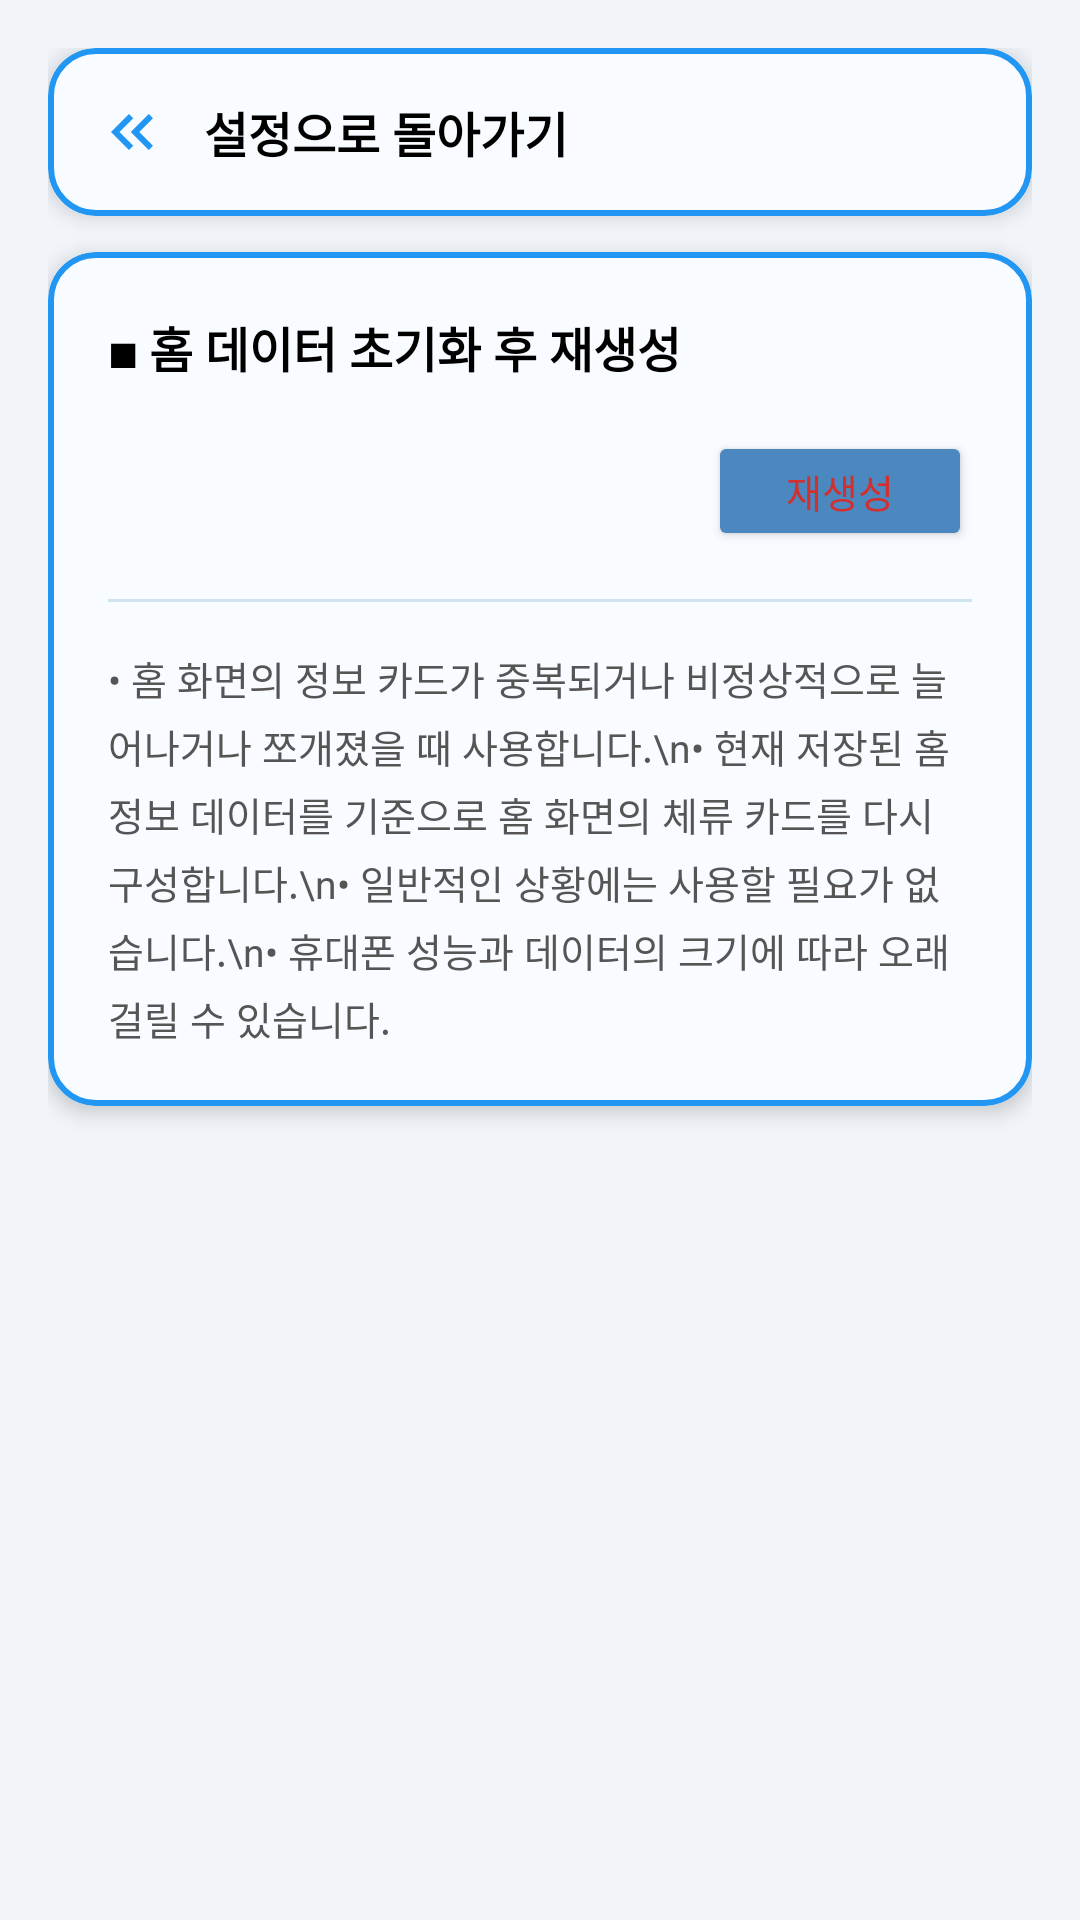

Named icons in this screenshot (1080*1920) and their centers, (x=x, y=y):
돌아가기 아이콘: (x=132, y=132)
